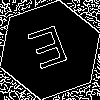E: (25, 25, 74, 79)
